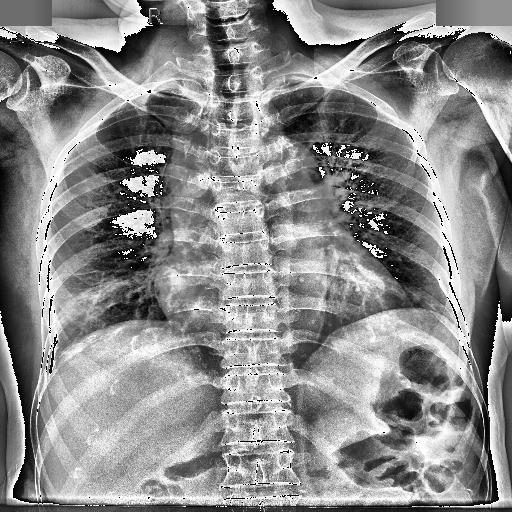0- Aortic enlargement: (226, 134, 322, 208), (252, 140, 327, 210)
11- Pleural thickening: (44, 308, 60, 376), (263, 74, 319, 86), (48, 332, 60, 376)
13- Pulmonary fibrosis: (46, 270, 104, 334), (62, 286, 99, 358), (48, 268, 102, 282)
2- Calcification: (44, 308, 60, 376), (48, 332, 60, 376)
3- Cardiomegaly: (150, 256, 416, 324), (152, 268, 421, 330), (151, 272, 408, 330)
9- Other lesion: (170, 125, 226, 250), (263, 138, 324, 203)
